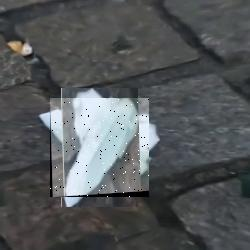restaffald: (50, 98, 149, 197)
